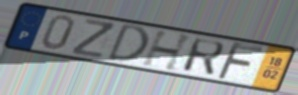0: (39, 14, 76, 52)
D: (104, 23, 150, 64)
F: (214, 40, 266, 82)
H: (139, 29, 195, 73)
R: (180, 37, 226, 78)
Z: (70, 17, 118, 61)
